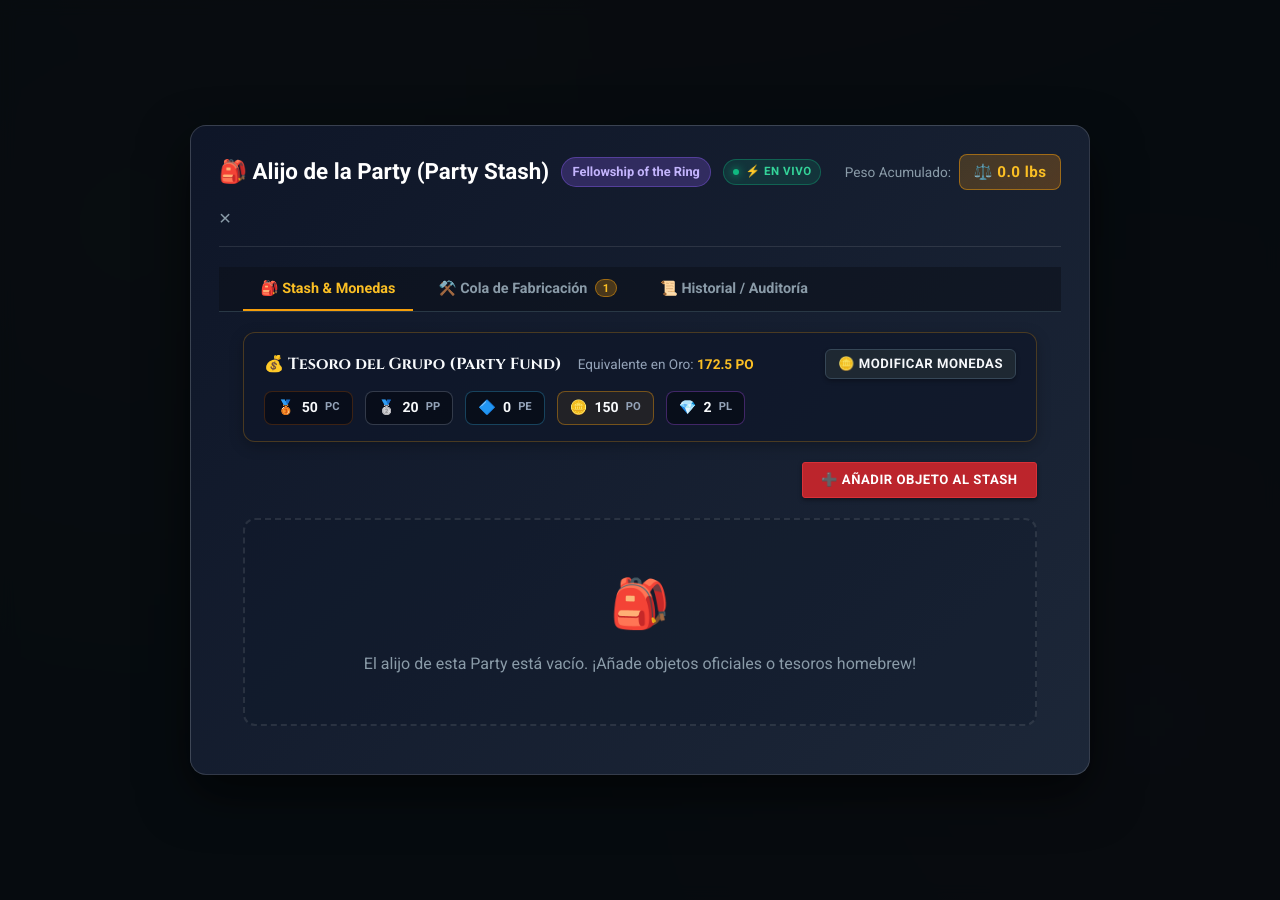
PartyStashModal Component Suite with QoL Features › renders party fund currencies and allows modifying coins
Check: the text "150" is shown, box x1=594 y1=397 x2=619 y2=418
Check: the element showing "Equivalente en Oro: 172.5 PO" is shown, box x1=578 y1=354 x2=754 y2=374
Note: Click "Modificar Monedas"
Click the button "🪙 Modificar Monedas": (920, 364) x1=825 y1=349 x2=1016 y2=379
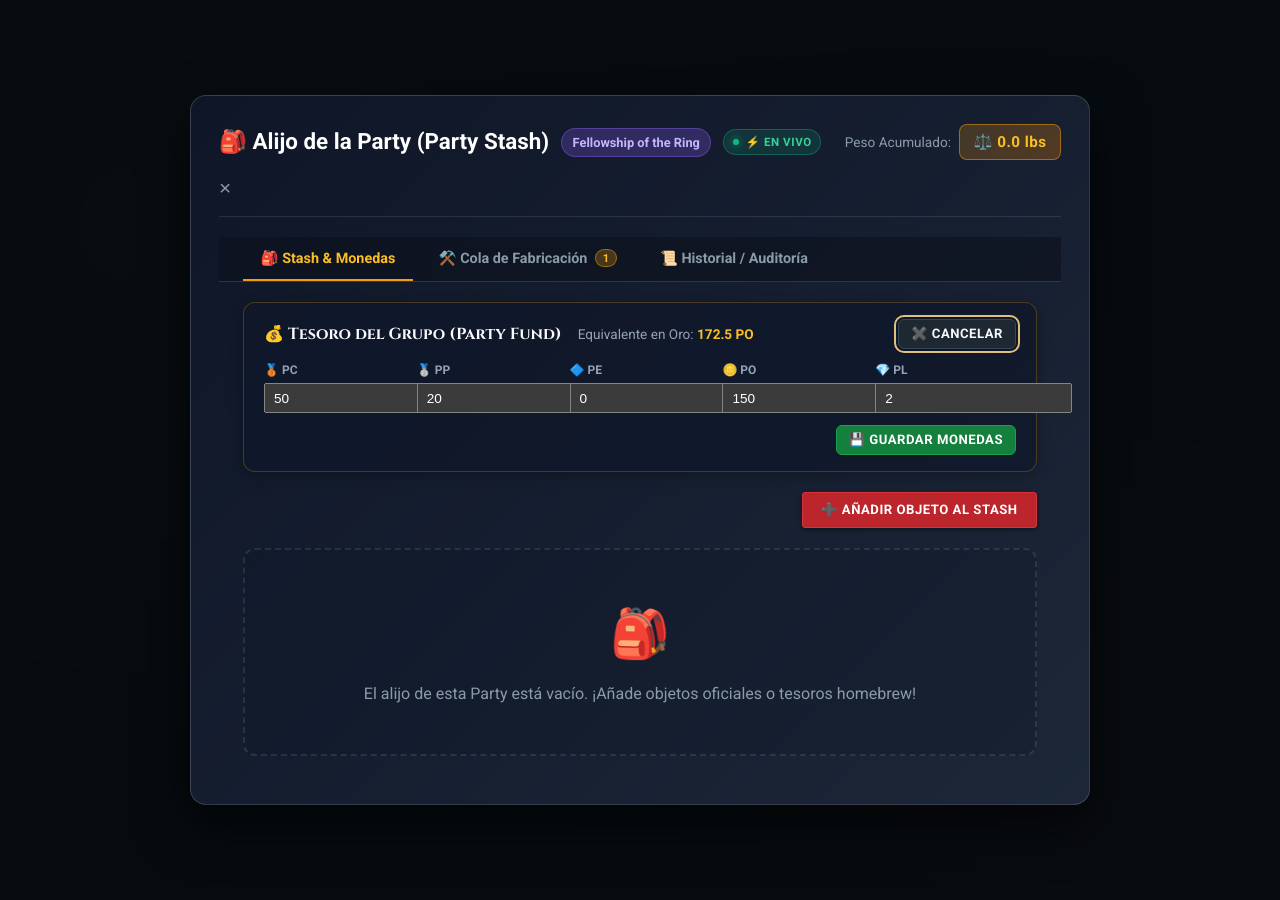
Note: Edit GP input
Replace the text in the number field with id "funds-gp" with "200": (821, 398) x1=722 y1=383 x2=919 y2=413
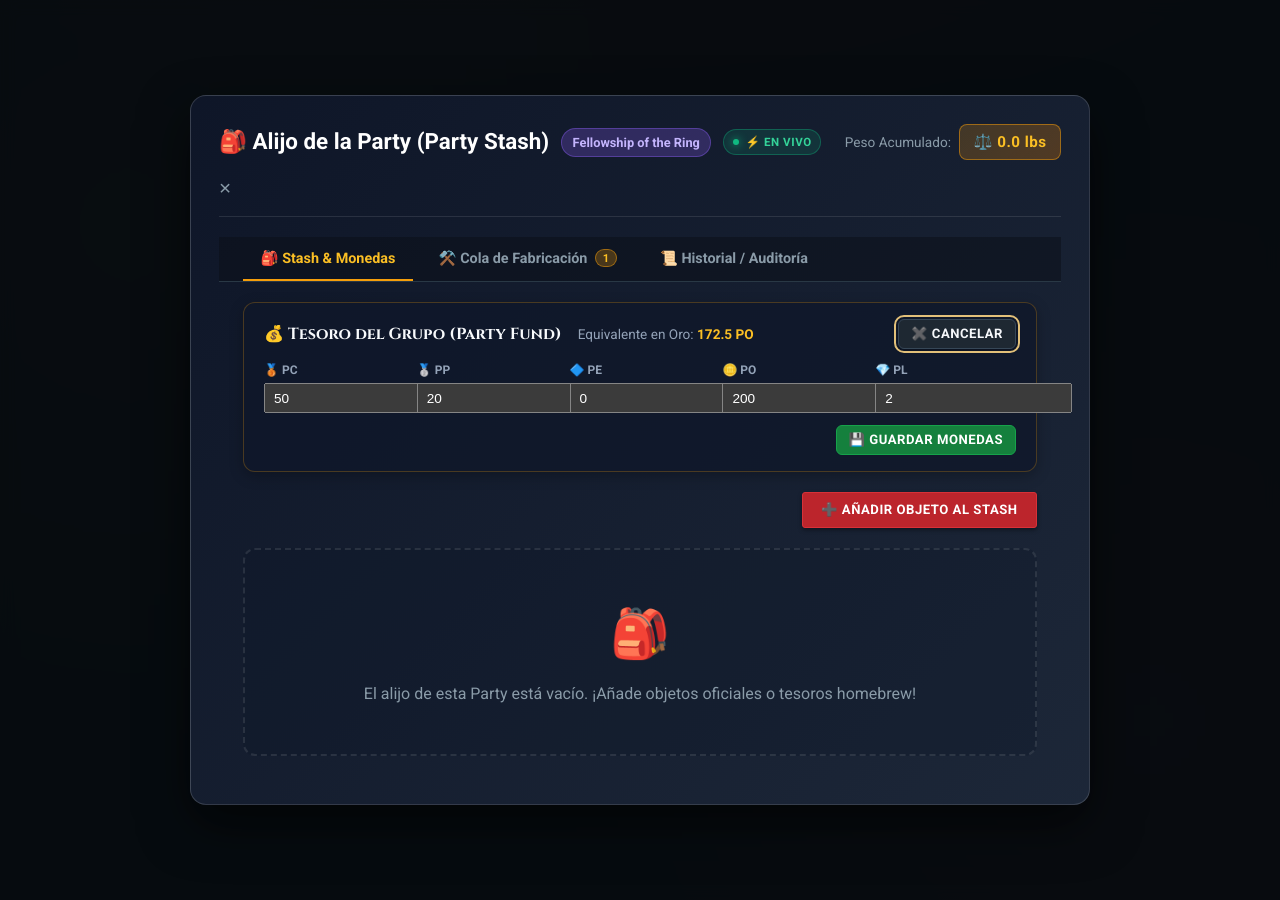
Click the button "💾 Guardar Monedas": (926, 440) x1=836 y1=425 x2=1016 y2=455
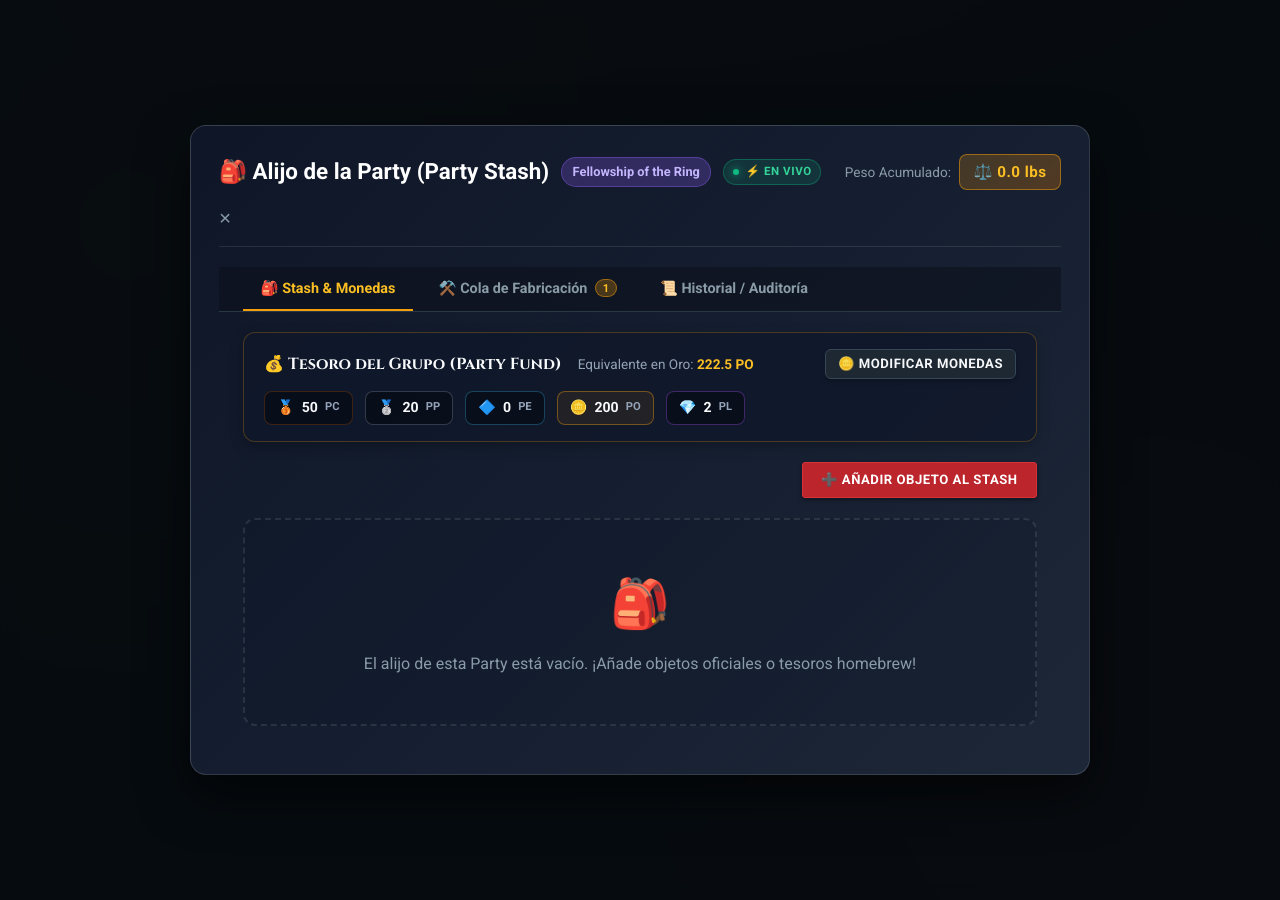
Check: the element showing "Equivalente en Oro: 222.5 PO" is shown, box x1=578 y1=354 x2=754 y2=374
